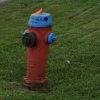a fire hydrant: (24, 10, 54, 88)
